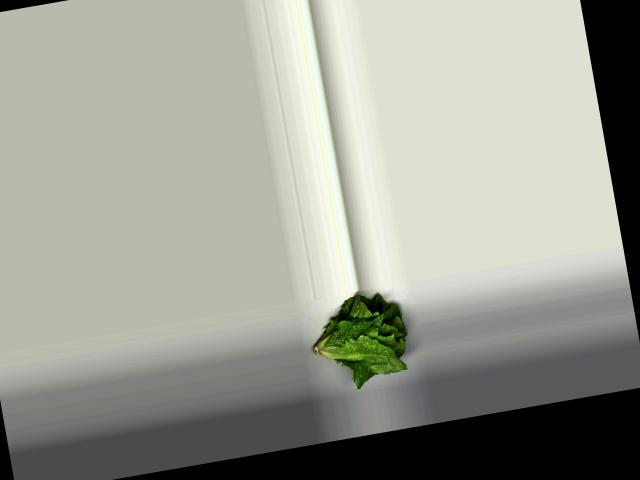lettuce: (296, 281, 418, 394)
